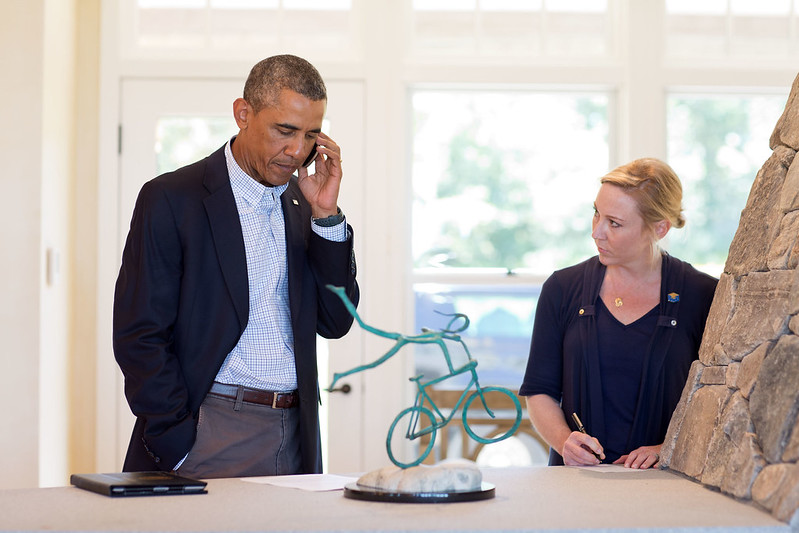phone: (303, 129, 328, 168)
talk: (258, 103, 349, 215)
